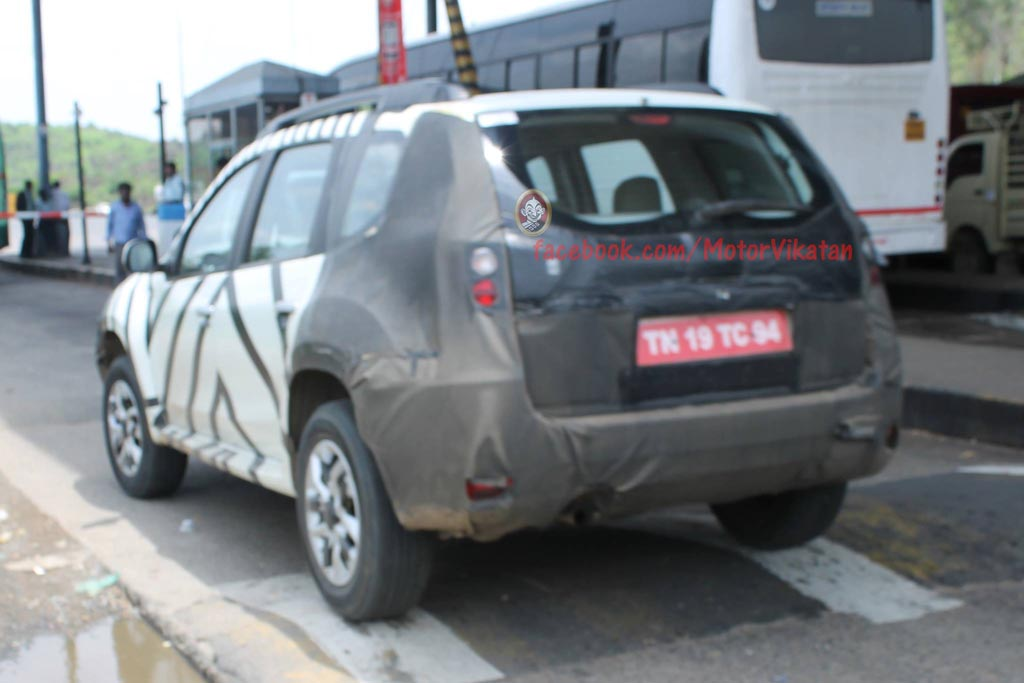number_plate: (626, 313, 806, 365)
